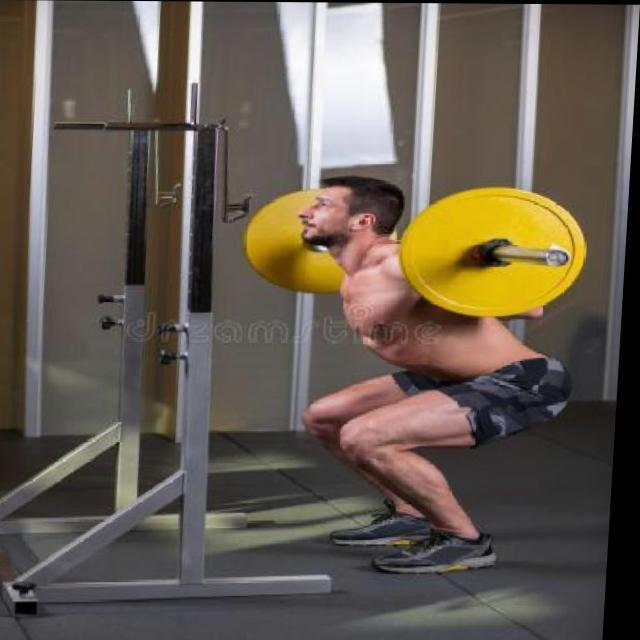barbell: (400, 184, 592, 320)
